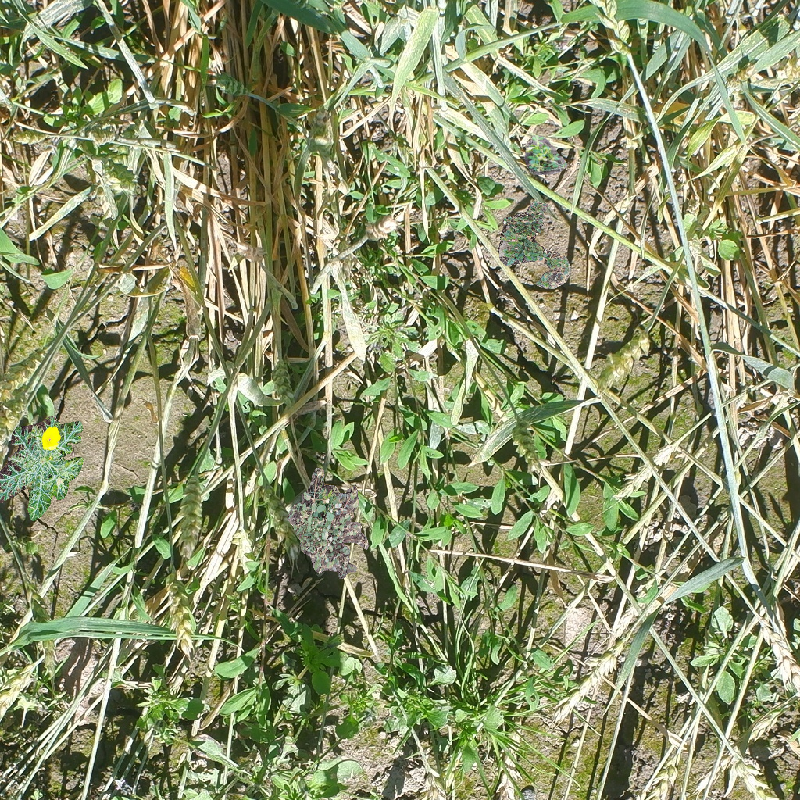spikelet: (749, 602, 798, 687), (621, 440, 679, 496), (597, 331, 652, 387), (176, 482, 205, 547), (96, 158, 141, 194), (271, 356, 295, 403)
weed: (273, 463, 389, 587), (1, 394, 83, 526), (485, 458, 594, 553), (492, 196, 583, 293), (690, 602, 759, 710), (140, 682, 210, 732), (298, 637, 360, 691), (392, 685, 449, 740), (525, 135, 567, 175)
